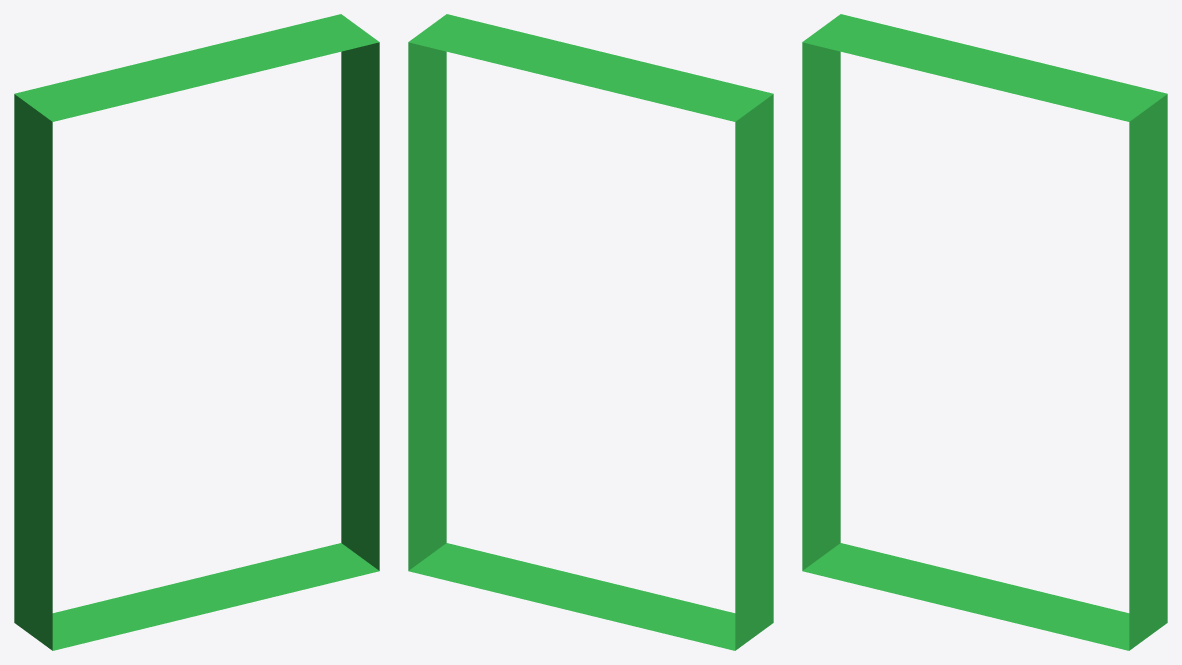
Rendered from original-11.obj.
3 renders of one model, left to right at view 1: azimuth 30°, elevation 25°; view 2: azimuth 150°, elevation 25°; view 3: azimuth 330°, elevation 25°, orthographic.
Visible parts, largest first — view 1: #ID73; view 2: #ID73; view 3: #ID73.
Part boxes in pixels (x1=…): #ID73: x1=14, y1=14, x2=379, y2=650; #ID73: x1=408, y1=14, x2=773, y2=650; #ID73: x1=802, y1=14, x2=1167, y2=650.
Size of the model in its own units: 0.523 by 0.8083 by 0.107.
